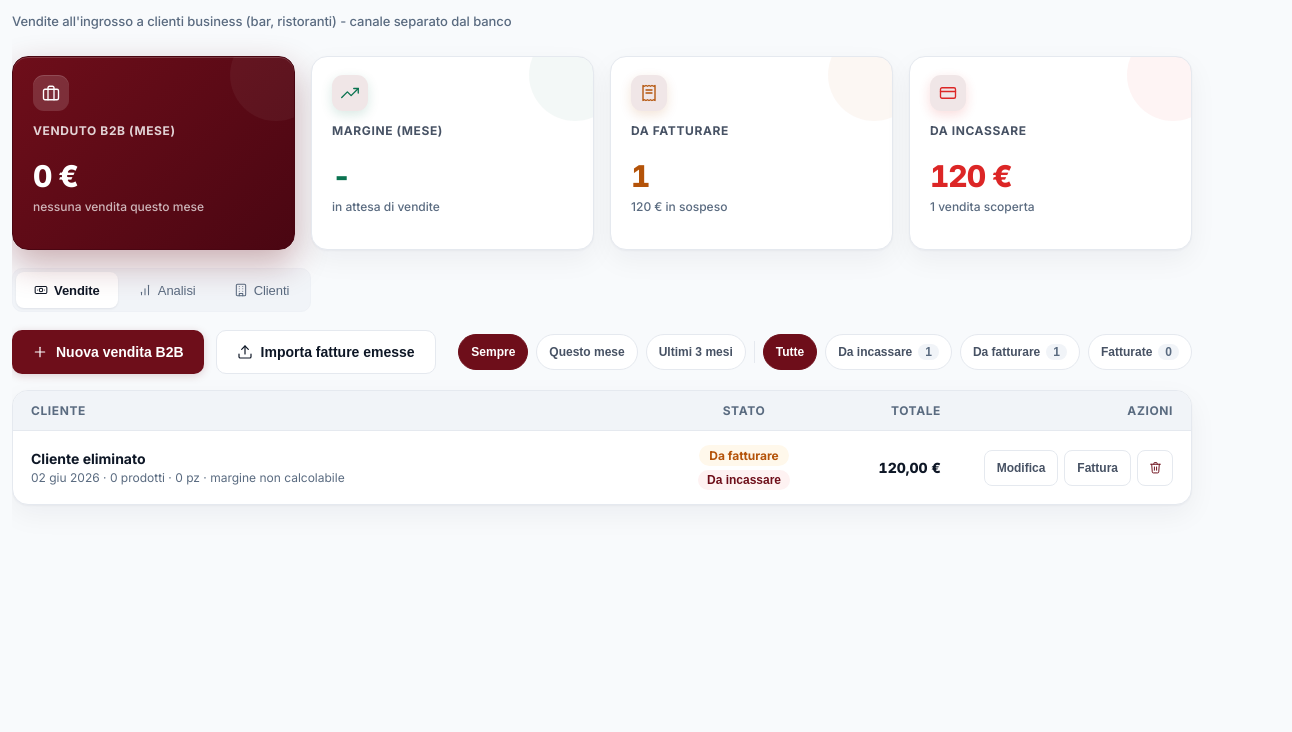
Test: La pagina con delle vendite › i clienti cancellati non si spacciano per un cliente vero
This screenshot has width=1292, height=732.
Step 1. Click the button "Analisi" → {"x": 167, "y": 290}, box [120,272,214,308]
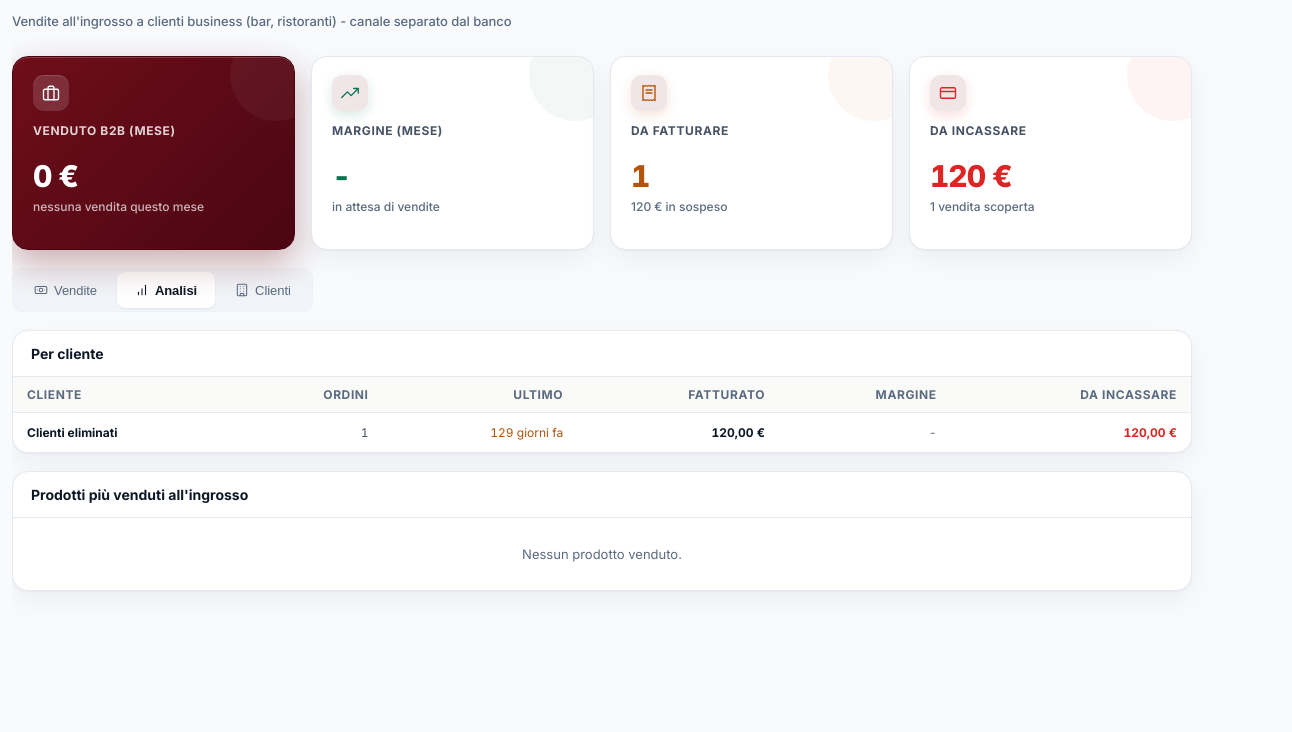
Expected: the text "Clienti eliminati" is shown, [13,412,241,452]
